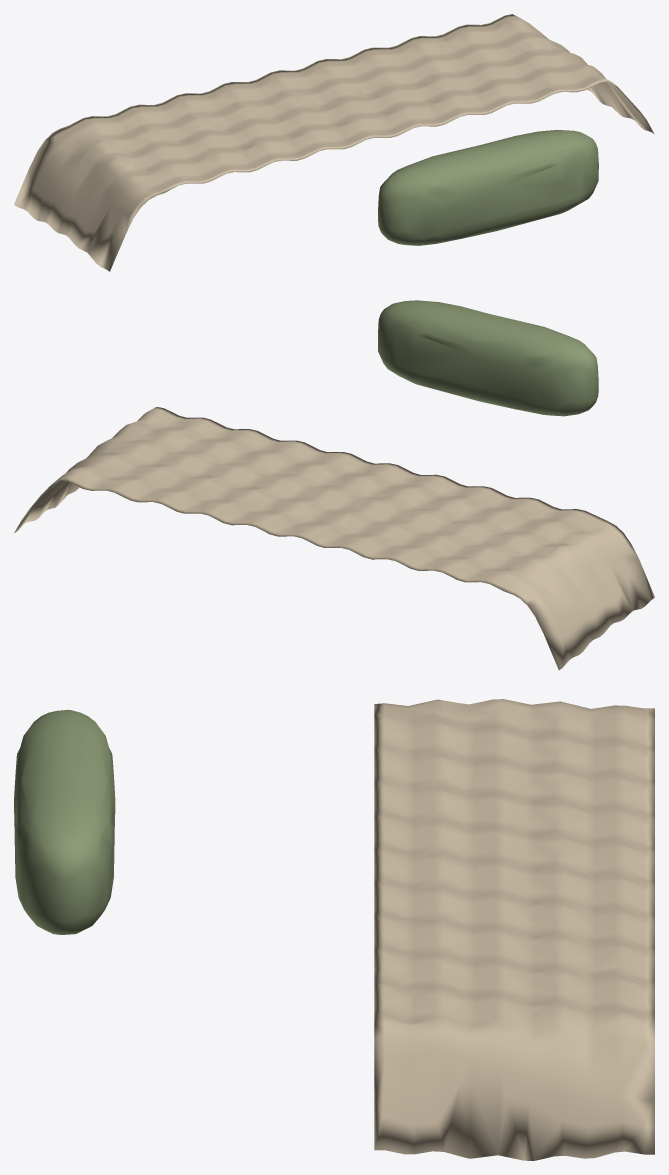
The model's file is bed-linen-light.glb.
3 views of the same model, one above another, from view 1: azimuth 30°, elevation 25°; view 2: azimuth 150°, elevation 25°; view 3: azimuth 270°, elevation 25° (orthographic). The views are drawn at different scales.
Visible parts, largest first — view 1: Mood linen oat, Mood linen sage; view 2: Mood linen oat, Mood linen sage; view 3: Mood linen oat, Mood linen sage.
Boxes of the visible parts, x1=… form: Mood linen oat: x1=14, y1=14, x2=654, y2=271; Mood linen sage: x1=378, y1=130, x2=598, y2=245; Mood linen oat: x1=14, y1=407, x2=654, y2=670; Mood linen sage: x1=378, y1=300, x2=598, y2=416; Mood linen oat: x1=374, y1=699, x2=654, y2=1160; Mood linen sage: x1=14, y1=709, x2=115, y2=934.
Bounding box in the file's own units: 1.74 × 0.4199 × 1.21.
